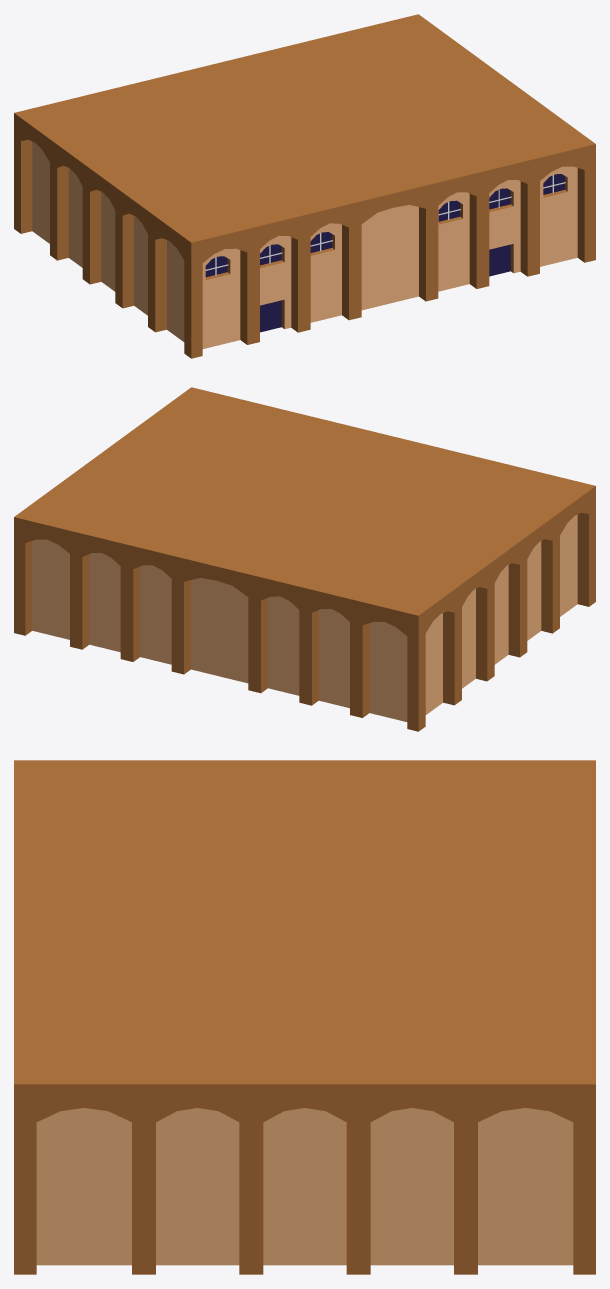
The model's file is UABCSGeneric1.glb.
The picture shows the model from 3 angles, top to bottom: view 1: azimuth 30°, elevation 25°; view 2: azimuth 150°, elevation 25°; view 3: azimuth 270°, elevation 25°; orthographic projection. The views are drawn at different scales.
Parts seen in each view (by area): view 1: UABCS-Generico1; view 2: UABCS-Generico1; view 3: UABCS-Generico1.
Part boxes in pixels (x1,y1,x2,y2): UABCS-Generico1: (14,14,595,358); UABCS-Generico1: (14,387,595,731); UABCS-Generico1: (14,760,595,1274).
Bounding box in the file's own units: 32.85 × 9 × 24.95.
1 material, 1 textured.
